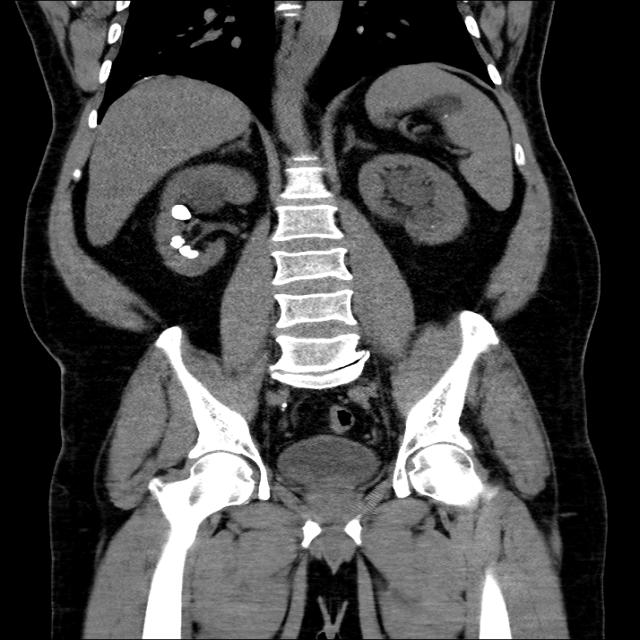kidneystone: (170, 235, 199, 258), (172, 205, 192, 221)
